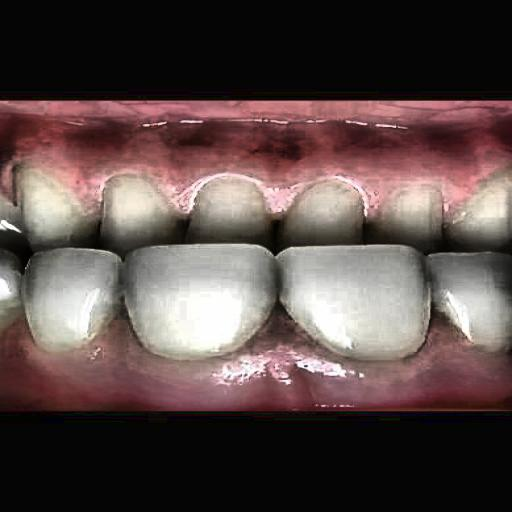Healthy: (9, 134, 512, 389)
